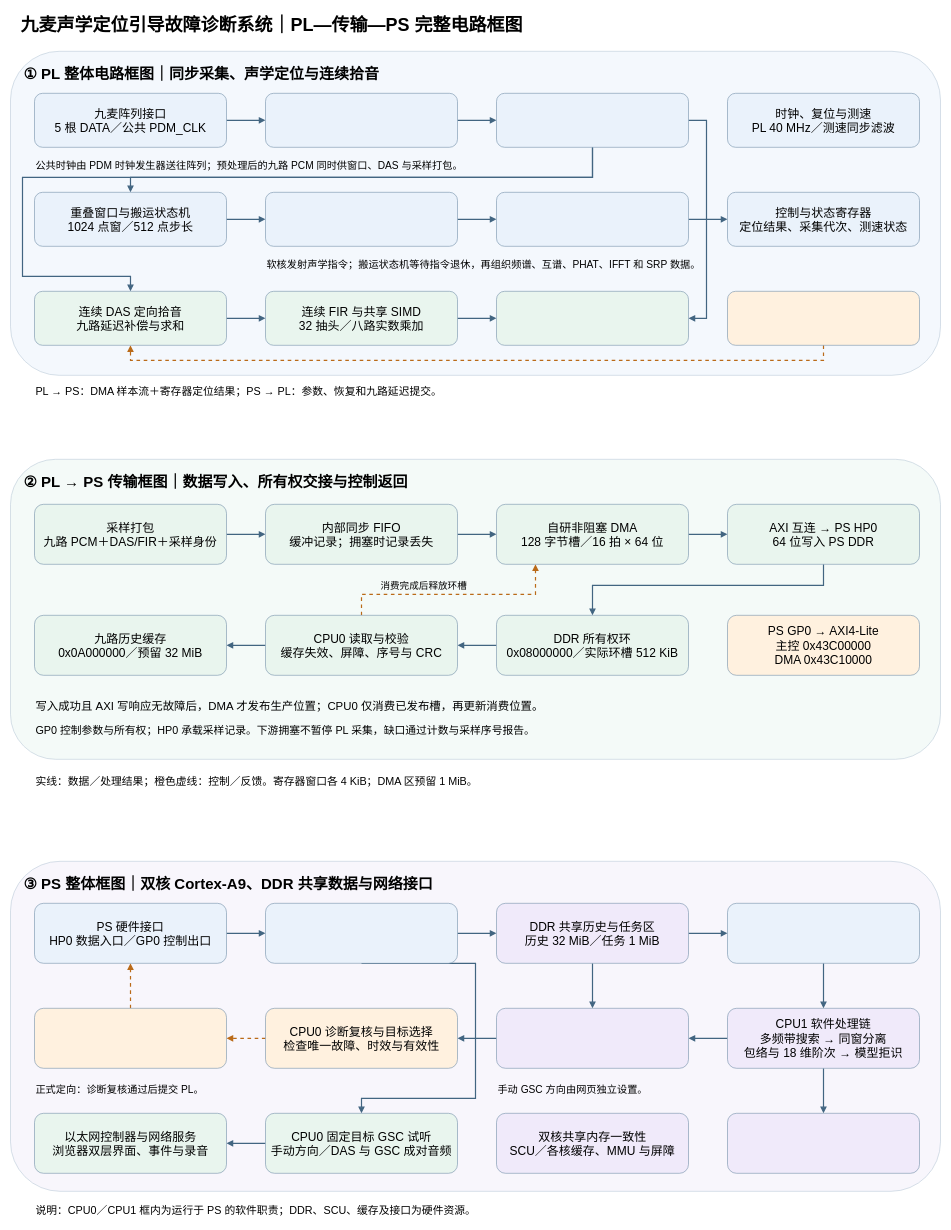
This 951x1230 diagram has some shape labels left out. Here are the shapes that lost their labels. From the top down, the box of each, then its label:
(265, 93, 458, 147): PDM 接收与抽取 双相采样 → CIC → 九路 PCM
(496, 93, 688, 147): 通道预处理与同步分流 去直流、增益校正｜156250 Hz
(265, 192, 458, 246): 自研五级 RISC-V 声学处理器 共享 FFT/IFFT、四路复数单元
(496, 192, 688, 246): 相关环存储与四麦对 SRP 36 麦对 → 1024 格方向评分
(496, 291, 688, 345): 采样打包与非阻塞 DMA 九路原始 PCM＋DAS/FIR＋状态
(727, 291, 920, 345): 九路延迟原子提交 影子向量 → 同版生效与平滑
(265, 903, 458, 963): Cortex-A9 CPU0 接收校验、历史与轨迹维护
(727, 903, 920, 963): Cortex-A9 CPU1 搜索、同窗分离与故障分析
(34, 1008, 226, 1068): PL 控制与方向提交 九路延迟写入、提交及读回
(496, 1008, 688, 1068): 固定快照与任务／结果交接 采样区间、轨迹、采集代次绑定
(727, 1113, 920, 1173): CPU1 独占 DDR 工作区 频谱、协方差与整窗音频
